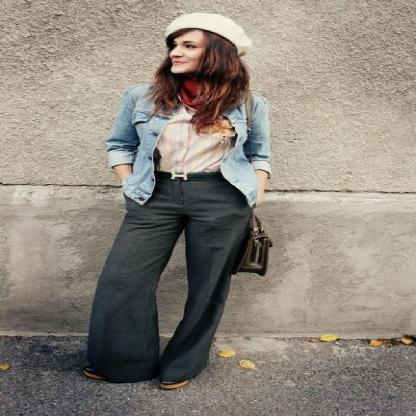bag: (237, 216, 279, 276)
hat: (165, 13, 252, 47)
jacket: (103, 92, 281, 204)
pants: (73, 180, 261, 390)
shirt: (160, 103, 237, 182)
